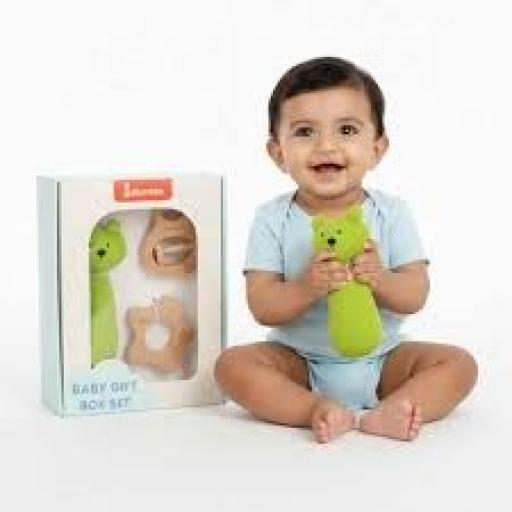baby: (217, 57, 477, 441)
